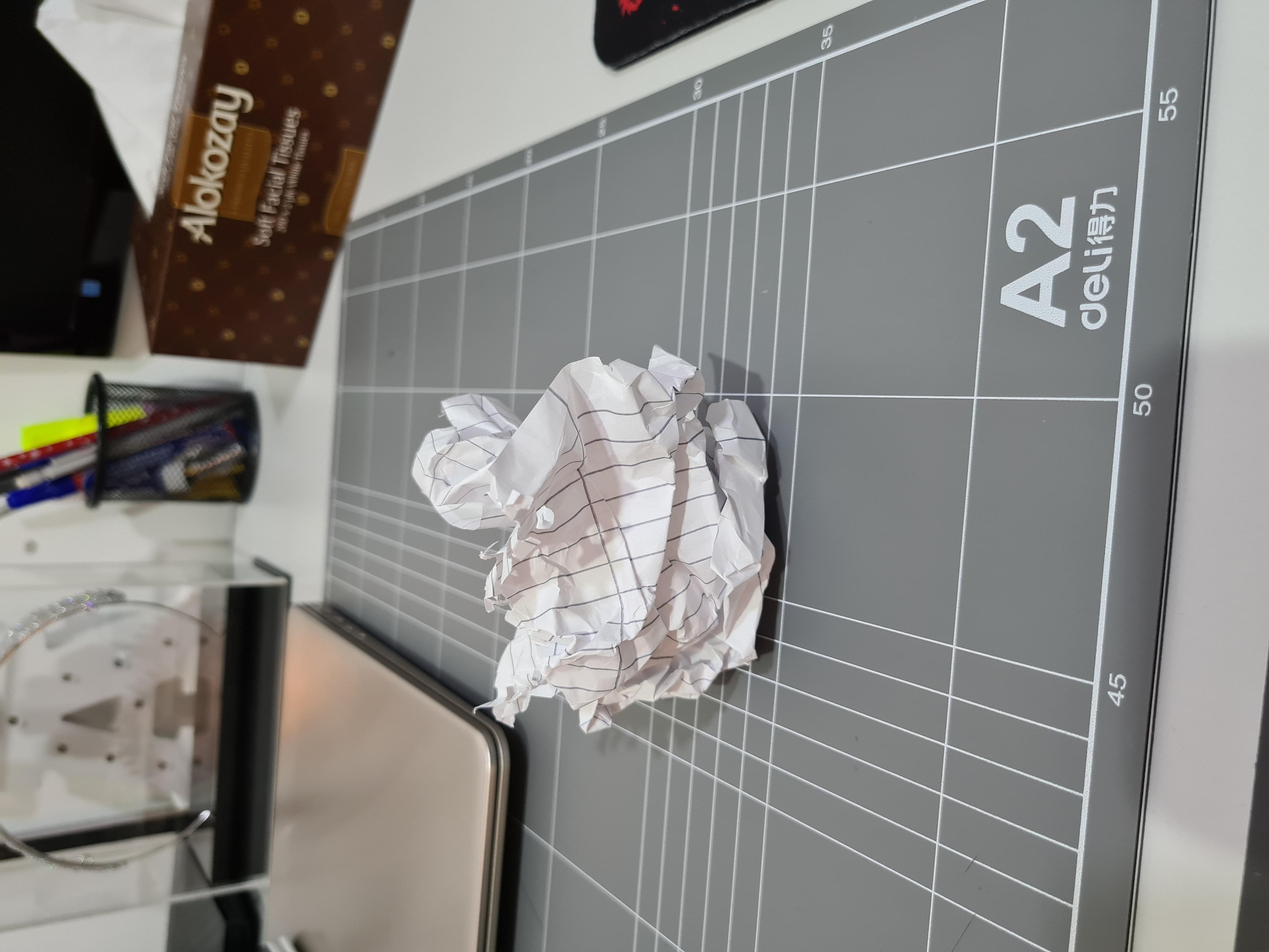paper: (311, 319, 816, 586)
